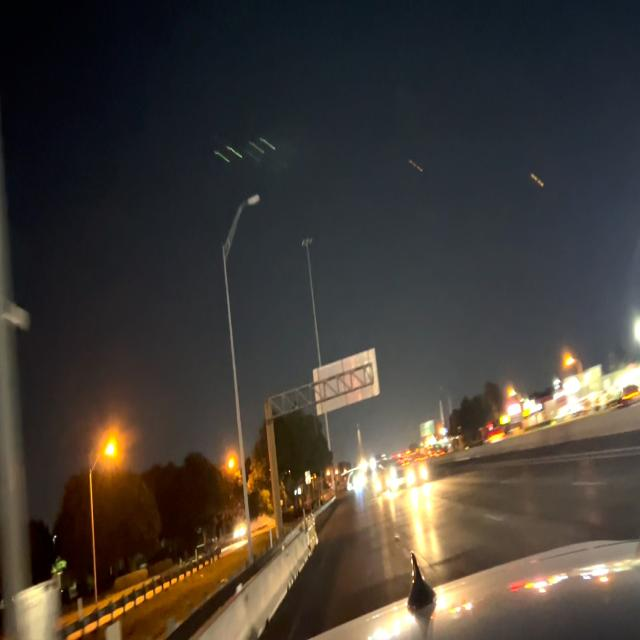back-of-sign: (313, 349, 382, 416)
